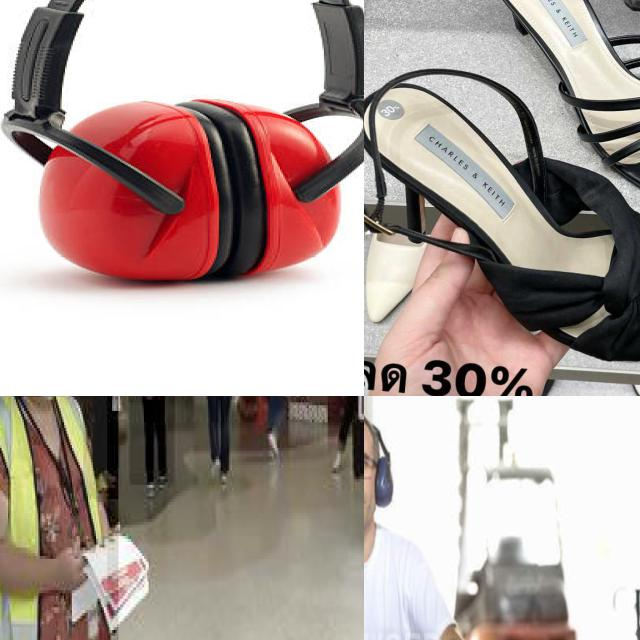Ear-protection: (0, 0, 364, 286), (364, 410, 397, 548)
Sandals: (364, 58, 640, 382), (464, 0, 640, 244)
glasses: (364, 452, 380, 479)
person: (364, 396, 537, 640), (0, 396, 120, 640), (129, 396, 176, 488), (199, 396, 238, 499), (253, 396, 304, 468), (83, 396, 118, 499)
shoes: (329, 448, 348, 476), (266, 429, 282, 458), (205, 454, 219, 479), (218, 468, 230, 496), (143, 478, 158, 500), (156, 468, 170, 490)
vest: (0, 396, 109, 640)
